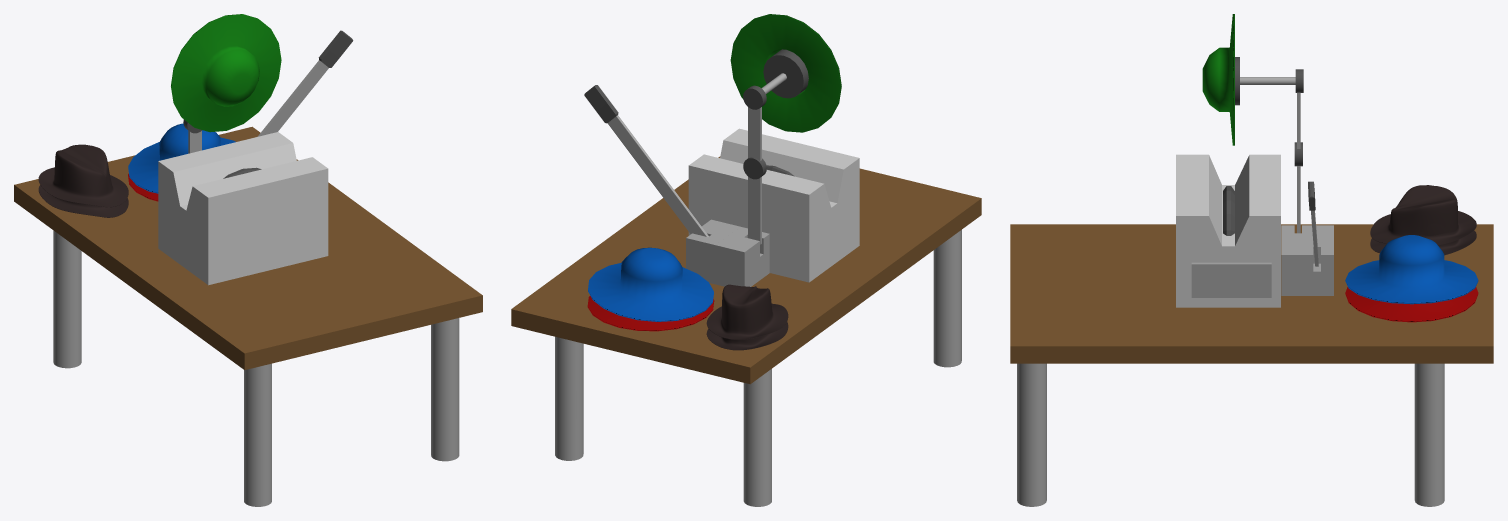
The model's file is hatSharpener.fbx.
3 views of the same model, side by side, from view 1: azimuth 30°, elevation 25°; view 2: azimuth 150°, elevation 25°; view 3: azimuth 270°, elevation 25° (orthographic). The views are drawn at different scales.
Parts seen in each view (by area): view 1: table, pCube24, pCylinder10, lever; view 2: table, pCube24, pCylinder10, lever, pCylinder13, hatArm, pCube19; view 3: table, pCube24, pCylinder10, grindingWheel.
Part boxes in pixels (x1,y1,x2,y2): table: (14, 123, 482, 506); pCube24: (158, 132, 328, 285); pCylinder10: (171, 14, 281, 132); lever: (257, 30, 353, 136); table: (511, 156, 981, 506); pCube24: (686, 128, 859, 286); pCylinder10: (730, 14, 841, 132); lever: (584, 85, 708, 236); pCylinder13: (763, 49, 808, 98); hatArm: (748, 176, 761, 244); pCube19: (748, 107, 761, 160); table: (1010, 185, 1493, 506); pCube24: (1176, 154, 1333, 307); pCylinder10: (1202, 14, 1234, 145); grindingWheel: (1223, 186, 1234, 235).
Size of the model in its own units: 1.37 by 2.08 by 2.18.
